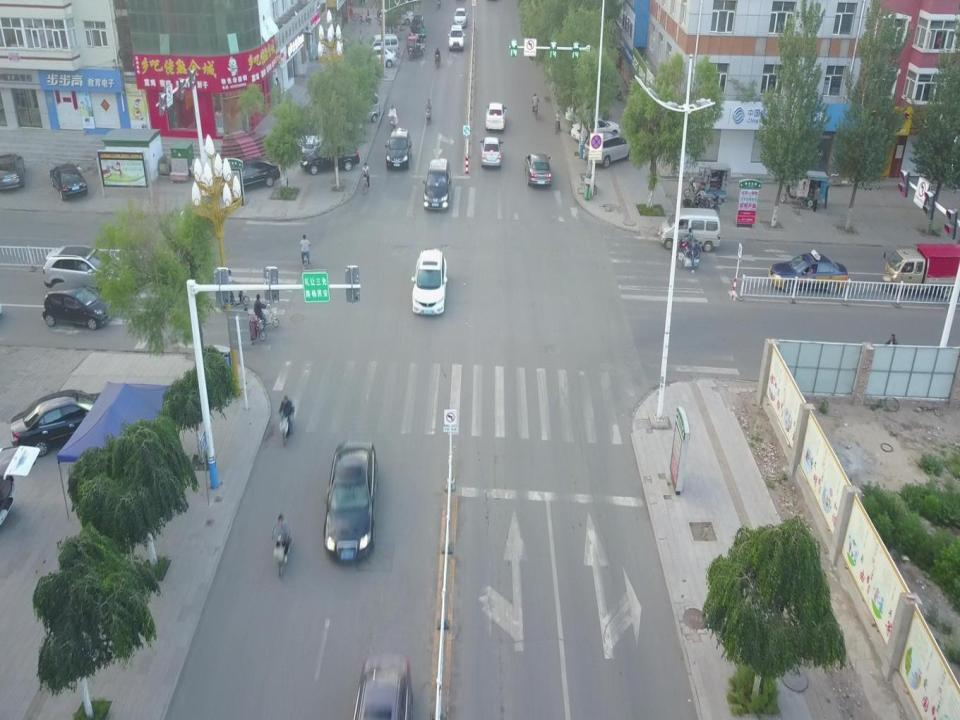car: (12, 389, 122, 450), (324, 439, 375, 560), (44, 241, 130, 296), (352, 652, 410, 720), (40, 280, 117, 326), (768, 251, 848, 292), (412, 248, 446, 316), (222, 154, 281, 190), (582, 128, 634, 168), (302, 139, 361, 174), (569, 110, 625, 142), (299, 100, 331, 151), (48, 163, 88, 201), (423, 159, 452, 209), (566, 92, 610, 122), (385, 128, 411, 168), (524, 152, 552, 187), (0, 153, 24, 189), (480, 136, 501, 166), (486, 102, 506, 130), (448, 24, 464, 52), (452, 7, 466, 28)
truck: (883, 241, 960, 292)
van: (659, 207, 722, 249), (340, 88, 381, 122), (362, 42, 396, 69), (367, 34, 400, 56)
